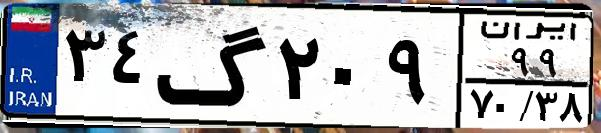0: (330, 28, 385, 110), (495, 70, 520, 125)
2: (270, 28, 330, 110)
3: (57, 26, 110, 100), (535, 70, 560, 125)
4: (110, 28, 156, 98)
7: (470, 70, 495, 125)
8: (560, 70, 590, 125)
9: (385, 28, 445, 110), (537, 27, 568, 80), (508, 27, 537, 80)
گ: (156, 12, 270, 120)
